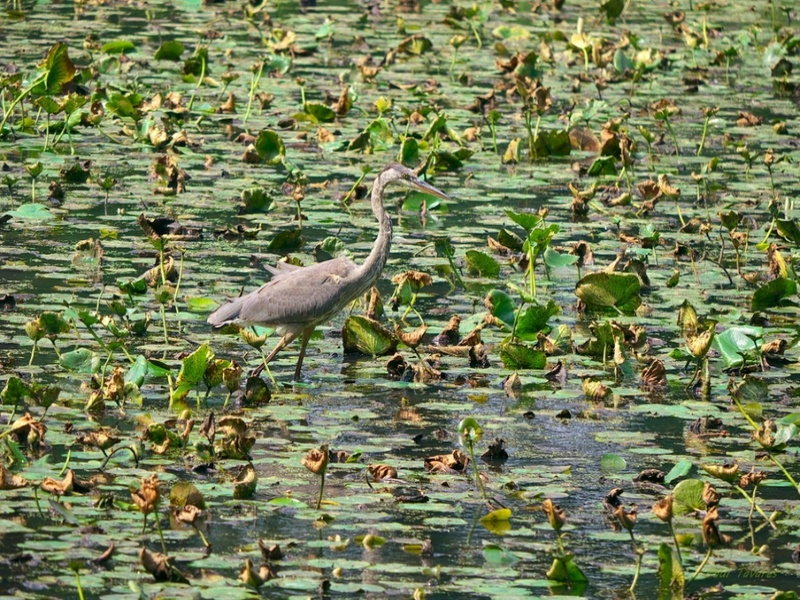heron: (213, 162, 449, 383)
